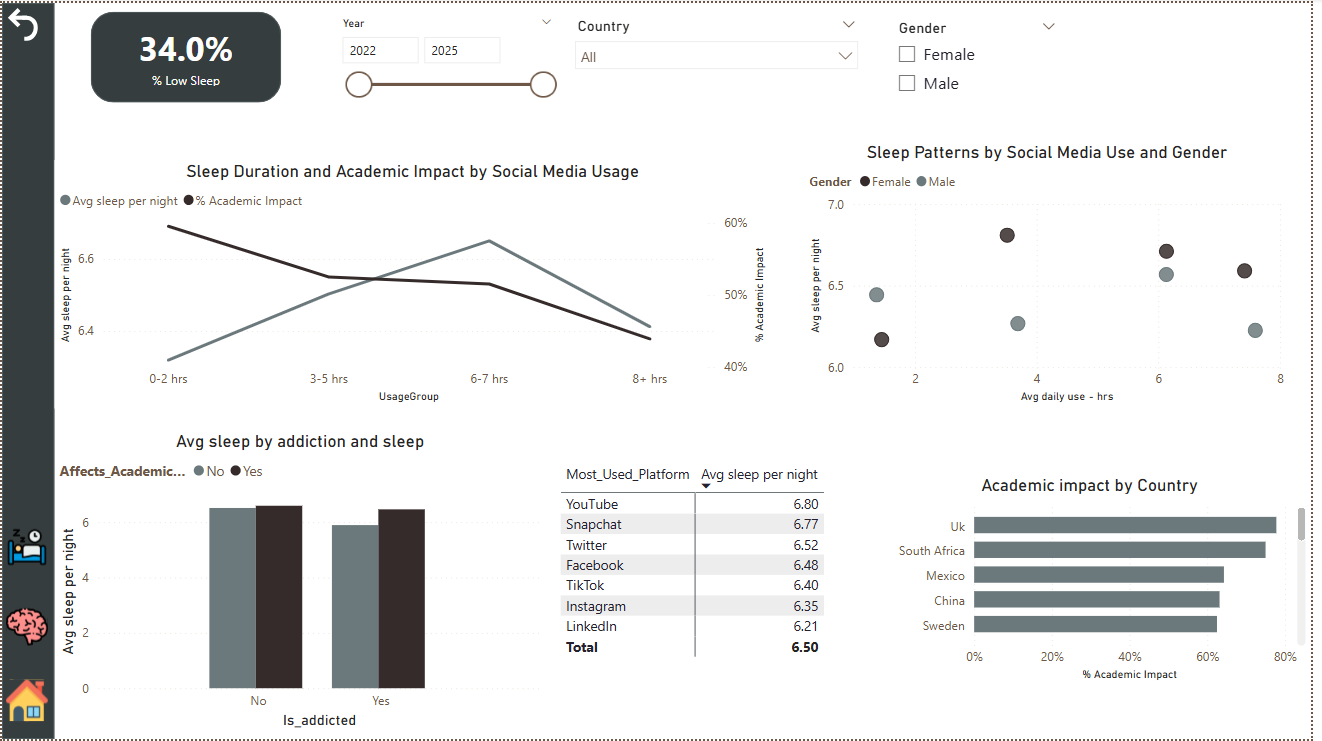

Layout of this report page (visuals, bound fields, positions):
{"tool":"powerbi","page":{"name":"Academic & sleep insights","canvas":[1280,720],"ordinal":2},"visuals":[{"type":"shape","box":[0,0,51.4,720.2],"z":0,"group":"g1"},{"type":"clusteredBarChart","title":"Academic impact by Country","fields":{"Category":["Students.Country"],"Y":["Measure table.% AcademicImpact"]},"box":[847.4,461,432.9,206.7],"z":0},{"type":"clusteredColumnChart","title":"Avg sleep by addiction and sleep","fields":{"Category":["Health and Performance.Is_addicted"],"Y":["Measure table.Avg sleep per night"],"Series":["Social media usage.Affects_Academic_Performance"]},"box":[51.4,418.2,480.6,295.9],"z":1000},{"type":"actionButton","box":[0,657.9,51.4,48.9],"z":1000,"group":"g1"},{"type":"pivotTable","fields":{"Rows":["Social media usage.Most_Used_Platform"],"Values":["Measure table.Avg sleep per night"]},"box":[541.7,445.1,322.8,222.6],"z":2000},{"type":"actionButton","box":[0,585.7,51.4,48.9],"z":2000,"group":"g1"},{"type":"group","id":"g1","title":"Navigation","box":[0,0,51.4,720.2],"z":3000},{"type":"shape","box":[86.4,8.6,186.2,88.8],"z":4000},{"type":"card","fields":{"Values":["Measure table.% Low Sleep"]},"box":[106.4,19.8,147.5,66.2],"z":5000},{"type":"actionButton","box":[0,585.7,51.4,48.9],"z":6000},{"type":"actionButton","box":[0,507.5,51.4,48.9],"z":7000},{"type":"actionButton","box":[0,0,51.4,41.6],"z":8000},{"type":"lineChart","title":"Sleep Duration and Academic Impact by Social Media Usage","fields":{"Category":["Social media usage.UsageGroup"],"Y":["Measure table.Avg sleep per night"],"Y2":["Measure table.% Academic Impact"]},"box":[51.4,154.1,700.7,242.1],"z":9000},{"type":"scatterChart","title":"Sleep Patterns by Social Media Use and Gender","fields":{"X":["Measure table.Avg daily use - hrs"],"Y":["Measure table.Avg sleep per night"],"Category":["Social media usage.UsageGroup"],"Series":["Students.Gender"]},"box":[785.1,135.7,474.5,260.5],"z":10000},{"type":"slicer","fields":{"Values":["DateTable.Year"]},"box":[320.4,8.6,229.9,89.3],"z":11000},{"type":"slicer","fields":{"Values":["Students.Country"]},"box":[550.3,8.6,297.1,89.3],"z":12000},{"type":"slicer","fields":{"Values":["Students.Gender"]},"box":[864.5,11,178.5,108.8],"z":13000}]}

Visuals, with their boxes on the page's 1280x720 design canvas (x1, y1, x2, y2). These are canvas units, not pixel positions in the 1322x741 screenshot, which may show the page scaled, cropped or inside an application window:
shape: 0:0:51:720
"Academic impact by Country" clusteredBarChart: 847:461:1280:668
"Avg sleep by addiction and sleep" clusteredColumnChart: 51:418:532:714
actionButton: 0:658:51:707
pivotTable - Social media usage.Most_Used_Platform x Measure table.Avg sleep per night: 542:445:864:668
actionButton: 0:586:51:635
"Navigation" group: 0:0:51:720
shape: 86:9:273:97
card - Measure table.% Low Sleep: 106:20:254:86
actionButton: 0:586:51:635
actionButton: 0:508:51:556
actionButton: 0:0:51:42
"Sleep Duration and Academic Impact by Social Media Usage" lineChart: 51:154:752:396
"Sleep Patterns by Social Media Use and Gender" scatterChart: 785:136:1260:396
slicer - DateTable.Year: 320:9:550:98
slicer - Students.Country: 550:9:847:98
slicer - Students.Gender: 864:11:1043:120
